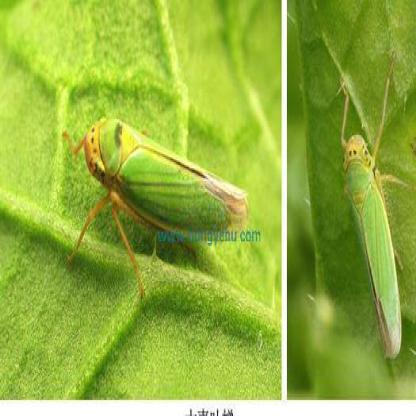Green-Leafhopper: (61, 112, 249, 298), (330, 54, 405, 361)
